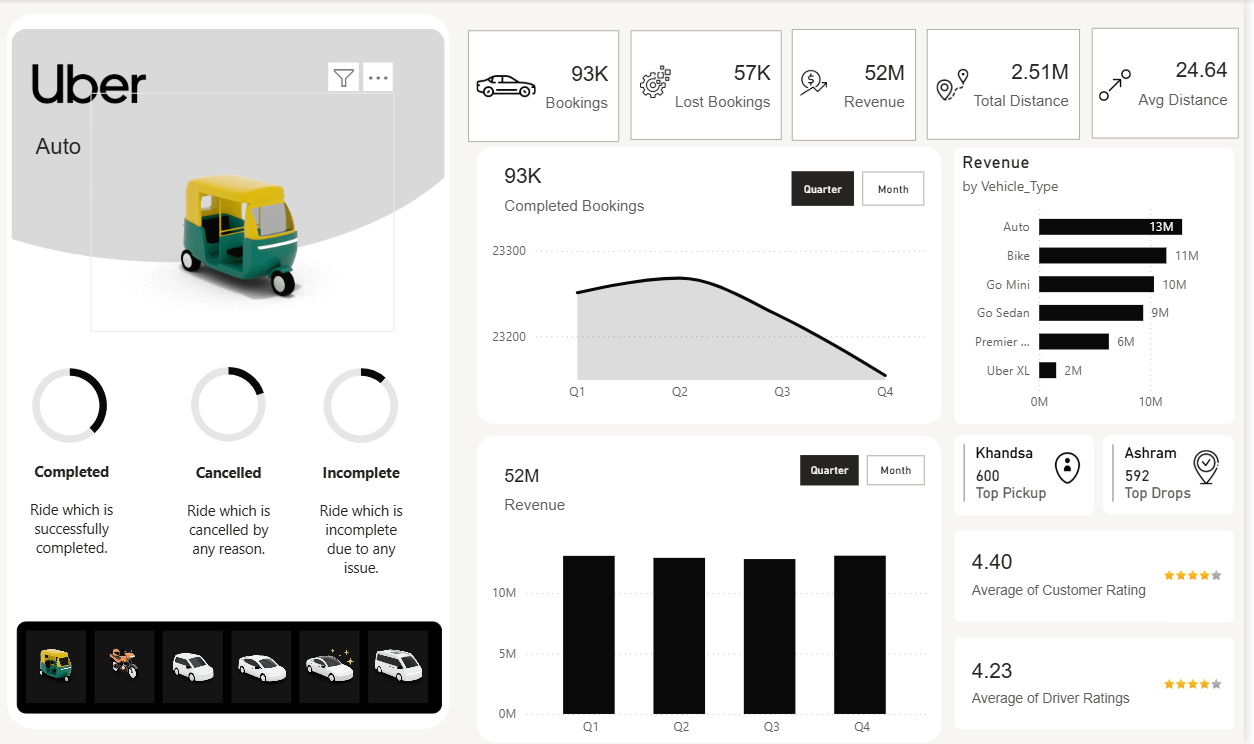

The dashboard page shown, as its layout file describes it:
{"tool":"powerbi","page":{"name":"Vehicle","canvas":[1280,720],"ordinal":2},"visuals":[{"type":"shape","box":[0,0,71.2,720.2],"z":0},{"type":"image","box":[3.6,0,67.6,73.6],"z":1000},{"type":"shape","box":[86.2,15,427.5,690],"z":2000},{"type":"cardVisual","fields":{"Data":["_Measures.Completed_Bookings"]},"box":[526.2,25,156.2,118.8],"z":3000},{"type":"cardVisual","fields":{"Data":["_Measures.Lost_Bookings"]},"box":[682.5,25,156.2,116.2],"z":4000},{"type":"cardVisual","fields":{"Data":["_Measures.Booking_Value"]},"box":[838.8,23.8,130,118.8],"z":5000},{"type":"image","box":[86.2,15,427.5,420],"z":6000},{"type":"image","box":[16.9,3.6,298,158],"z":7000},{"type":"cardVisual","fields":{"Data":["_Measures.Total_Distance"]},"box":[968.8,23.8,158.8,117.5],"z":8000},{"type":"cardVisual","fields":{"Data":["_Measures.Average_Distance"]},"box":[1128,22.9,152,117],"z":9000},{"type":"advancedSlicerVisual","fields":{"Values":["IMG.Vehicle Type"]},"box":[95,601.2,410,88.8],"z":10000},{"type":"cardVisual","fields":{"Data":["Min(IMG.Vehicle Type)"]},"box":[96.2,80,173.8,118.8],"z":11000},{"type":"cardVisual","fields":{"Data":["Min(IMG.Img)"]},"box":[166.2,90,293.8,231.2],"z":12000},{"type":"image","box":[535,30,66.2,108.8],"z":14000},{"type":"image","box":[691.2,43.8,41.2,72.5],"z":15000},{"type":"image","box":[847.5,52.5,35,53.8],"z":16000},{"type":"image","box":[978.8,52.5,40,58.8],"z":17000},{"type":"image","box":[1135,50,40,67.5],"z":18000},{"type":"donutChart","fields":{"Y":["_Measures.Booking_Count","_Measures.Bookings_Remove_status_filter"]},"box":[96.2,342.5,100,100],"z":19000},{"type":"donutChart","fields":{"Y":["_Measures.Booking_Count","_Measures.Bookings_Remove_status_filter"]},"box":[250,341.2,100,100],"z":20000},{"type":"donutChart","fields":{"Y":["_Measures.Booking_Count","_Measures.Bookings_Remove_status_filter"]},"box":[377.5,342.5,100,100],"z":21000},{"type":"textbox","box":[100,441.2,96.2,147.5],"z":22000},{"type":"textbox","box":[250,442.5,100,146.2],"z":23000},{"type":"textbox","box":[377.5,442.5,100,146.2],"z":24000},{"type":"tableEx","title":"Revenue","fields":{"Values":["IMG.Img","Uber.Ve_Type","_Measures.customer_Count","_Measures.Booking_Value","_Measures.Completed_Bookings","_Measures.Cont%","SparklineData(_Measures.Completed_Bookings_[Calender.Month])"]},"box":[526,142.4,744.4,547.7],"z":25000}]}

Visuals, with their boxes on the page's 1280x720 design canvas (x1, y1, x2, y2). These are canvas units, not pixel positions in the 1254x744 screenshot, which may show the page scaled, cropped or inside an application window:
shape: bbox=(0, 0, 71, 720)
image: bbox=(4, 0, 71, 74)
shape: bbox=(86, 15, 514, 705)
cardVisual - _Measures.Completed_Bookings: bbox=(526, 25, 682, 144)
cardVisual - _Measures.Lost_Bookings: bbox=(682, 25, 839, 141)
cardVisual - _Measures.Booking_Value: bbox=(839, 24, 969, 143)
image: bbox=(86, 15, 514, 435)
image: bbox=(17, 4, 315, 162)
cardVisual - _Measures.Total_Distance: bbox=(969, 24, 1128, 141)
cardVisual - _Measures.Average_Distance: bbox=(1128, 23, 1280, 140)
advancedSlicerVisual - IMG.Vehicle Type: bbox=(95, 601, 505, 690)
cardVisual - Min(IMG.Vehicle Type): bbox=(96, 80, 270, 199)
cardVisual - Min(IMG.Img): bbox=(166, 90, 460, 321)
image: bbox=(535, 30, 601, 139)
image: bbox=(691, 44, 732, 116)
image: bbox=(848, 52, 882, 106)
image: bbox=(979, 52, 1019, 111)
image: bbox=(1135, 50, 1175, 118)
donutChart - _Measures.Booking_Count x _Measures.Bookings_Remove_status_filter: bbox=(96, 342, 196, 442)
donutChart - _Measures.Booking_Count x _Measures.Bookings_Remove_status_filter: bbox=(250, 341, 350, 441)
donutChart - _Measures.Booking_Count x _Measures.Bookings_Remove_status_filter: bbox=(378, 342, 478, 442)
textbox: bbox=(100, 441, 196, 589)
textbox: bbox=(250, 442, 350, 589)
textbox: bbox=(378, 442, 478, 589)
"Revenue" tableEx: bbox=(526, 142, 1270, 690)
